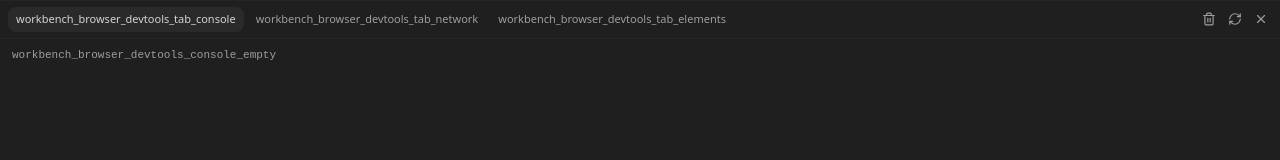
Test: BrowserDevtoolsPanel › erro de script fica visível sem quebrar o painel
expect the text "workbench_browser_devtools_console_empty" is shown: met, box [12,48,276,60]
Click the button with test id "devtools-subtab-elements" at (612, 19), box [490,7,734,32]
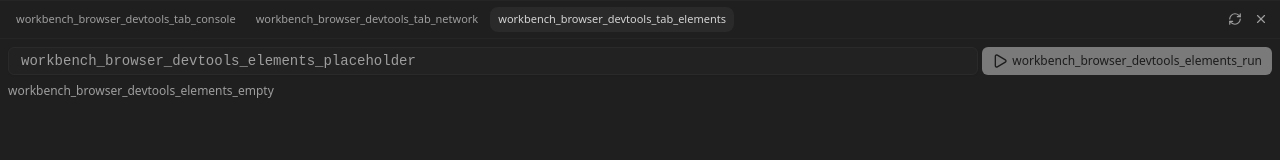
Type "foo" into the field with placeholder "workbench_browser_devtools_elements_placeholder" at (493, 60), box [8,46,978,74]
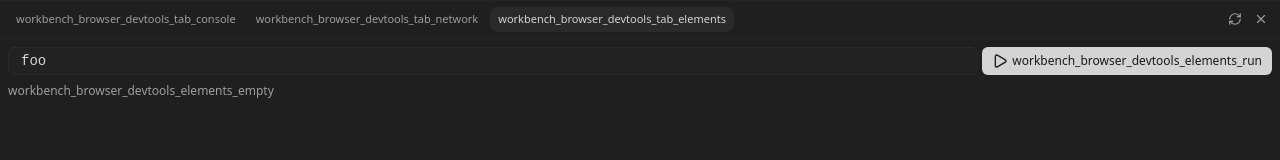
Click the button "workbench_browser_devtools_elements_run" at (1127, 60), box [982,46,1272,74]
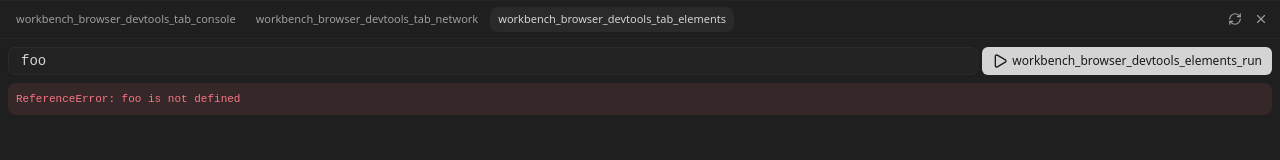
expect the text "ReferenceError: foo is not defined" is shown: met, box [8,82,1272,115]
